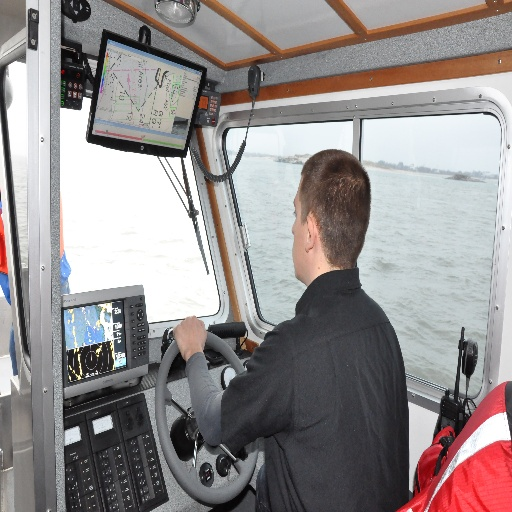hand: (170, 314, 207, 360)
